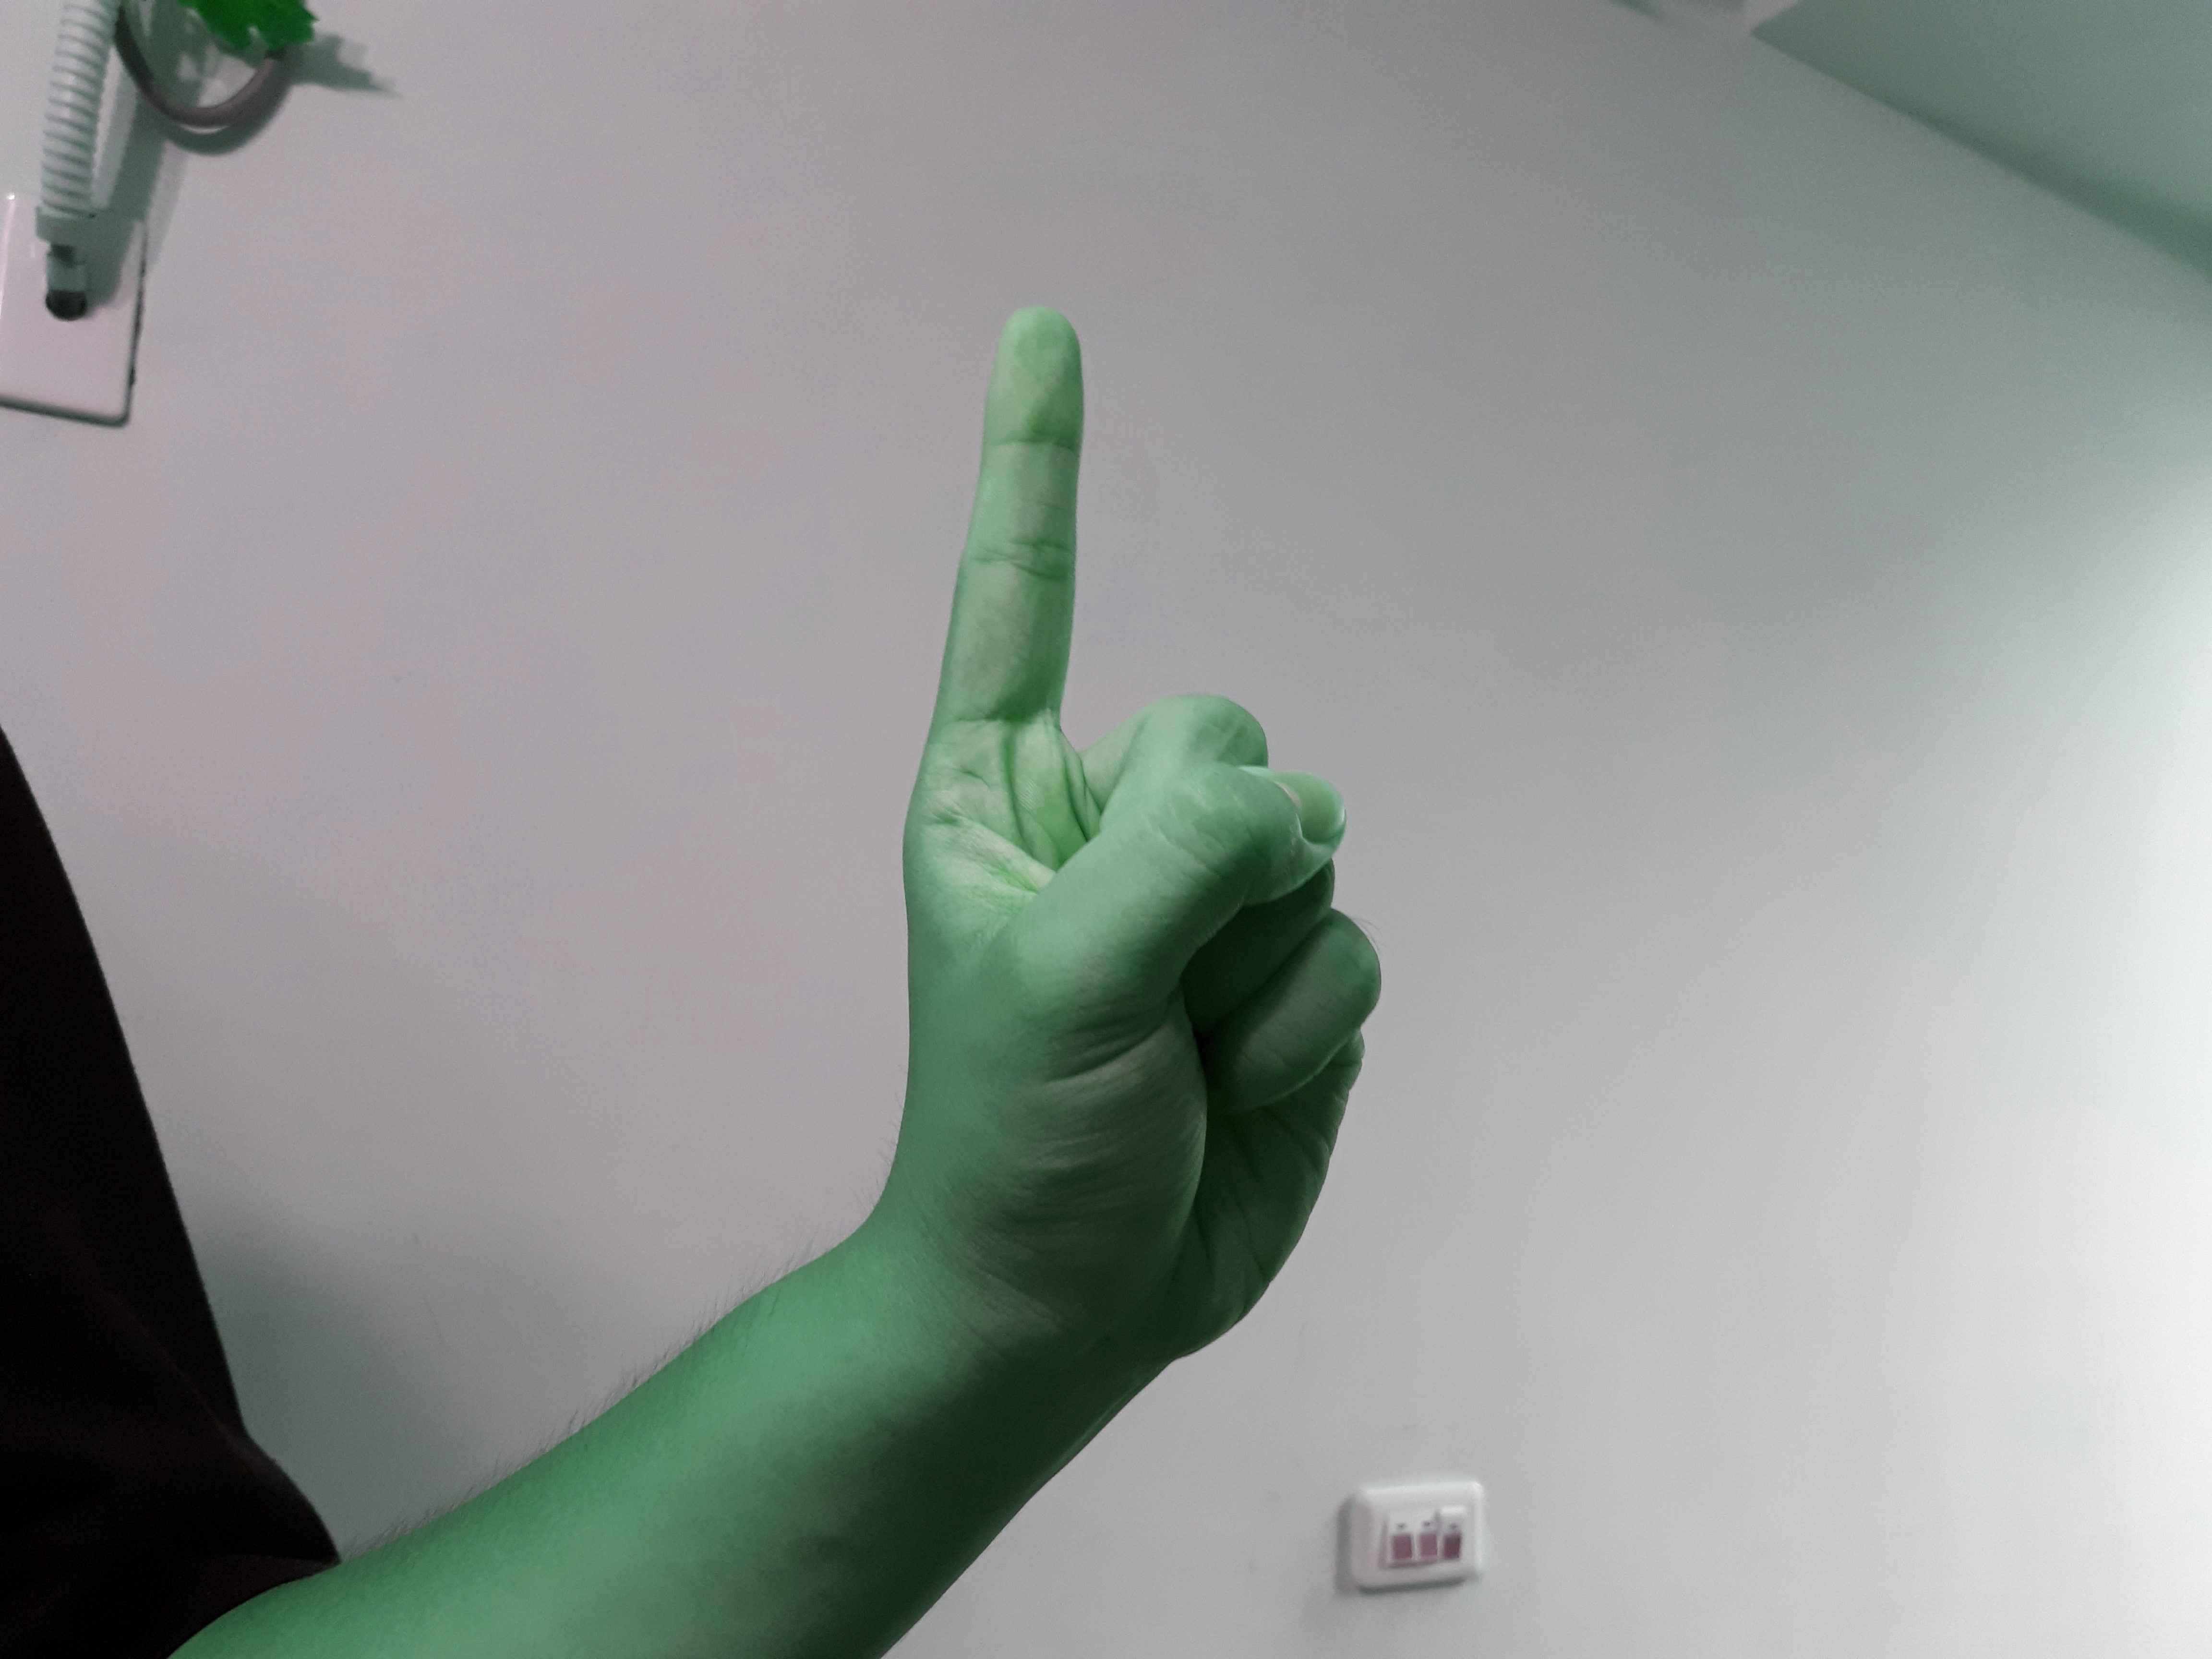up: (859, 267, 1400, 1377)
